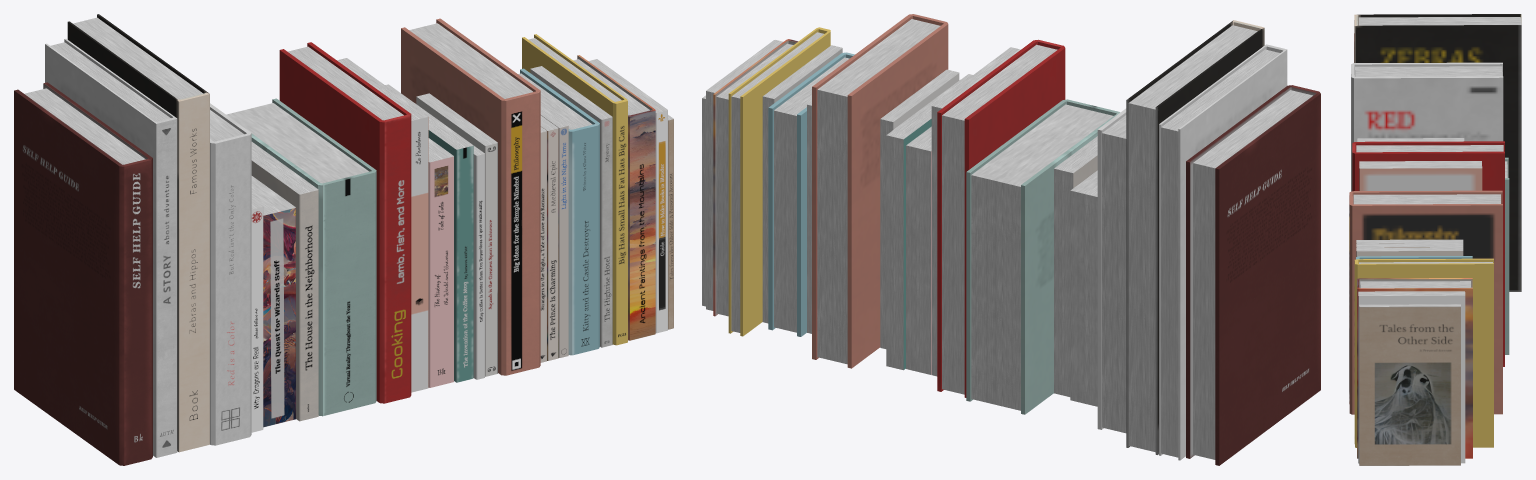
File: ddemobook.fbx
3 renders of one model, left to right at view 1: azimuth 30°, elevation 25°; view 2: azimuth 150°, elevation 25°; view 3: azimuth 270°, elevation 25°, orthographic. The views are drawn at different scales.
Visible parts, largest first — view 1: Cube_books_0; view 2: Cube_books_0; view 3: Cube_books_0.
Boxes of the visible parts, bbox=[...] form: Cube_books_0: bbox=[14, 14, 673, 465]; Cube_books_0: bbox=[702, 14, 1320, 465]; Cube_books_0: bbox=[1349, 14, 1521, 465].
Size of the model in its own units: 67.56 by 40.58 by 23.75.
1 material, 1 textured.
